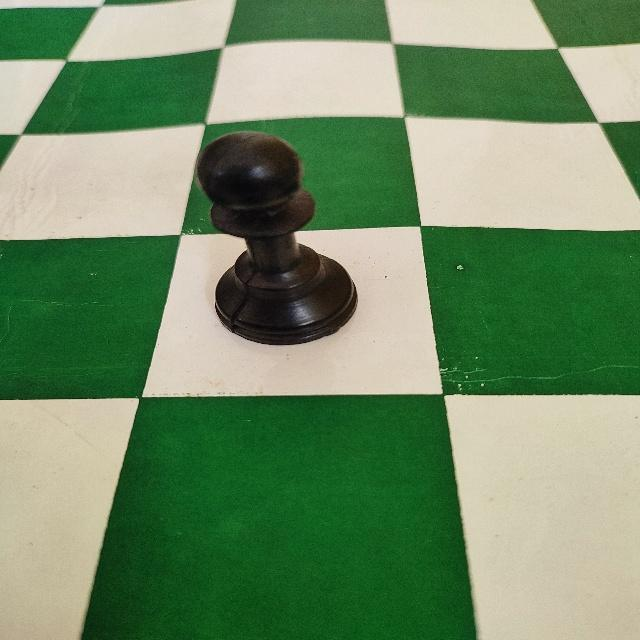Pawn: (194, 130, 361, 348)
